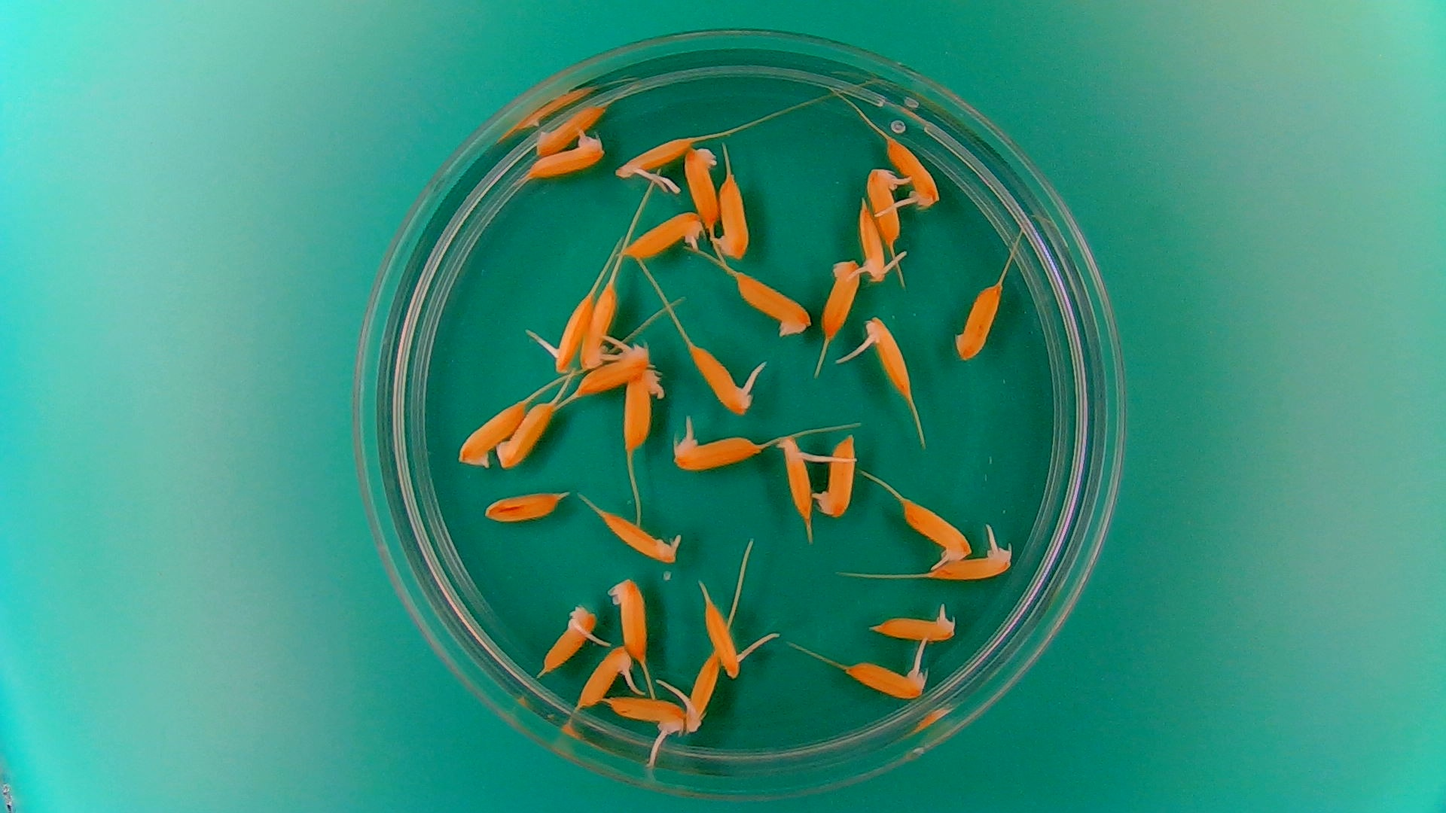no: (455, 395, 528, 471), (733, 271, 812, 338), (952, 282, 1010, 370), (494, 398, 555, 470), (532, 100, 607, 157), (606, 574, 651, 666), (820, 257, 864, 340), (683, 144, 722, 230), (481, 486, 567, 525)
yes: (686, 340, 757, 417), (898, 498, 972, 565), (884, 131, 944, 211), (620, 208, 706, 261), (540, 601, 600, 676), (598, 512, 681, 565), (573, 340, 645, 399), (613, 132, 697, 182), (866, 313, 914, 397), (575, 643, 636, 709), (812, 434, 859, 519), (776, 433, 818, 526), (604, 693, 688, 739), (527, 132, 608, 178), (552, 288, 596, 372), (680, 648, 721, 737), (621, 367, 663, 453), (842, 662, 928, 702), (715, 172, 752, 262), (704, 595, 743, 679), (580, 280, 619, 363), (856, 199, 893, 285), (865, 163, 905, 241), (669, 435, 754, 471), (928, 546, 1010, 581), (878, 610, 958, 641)
